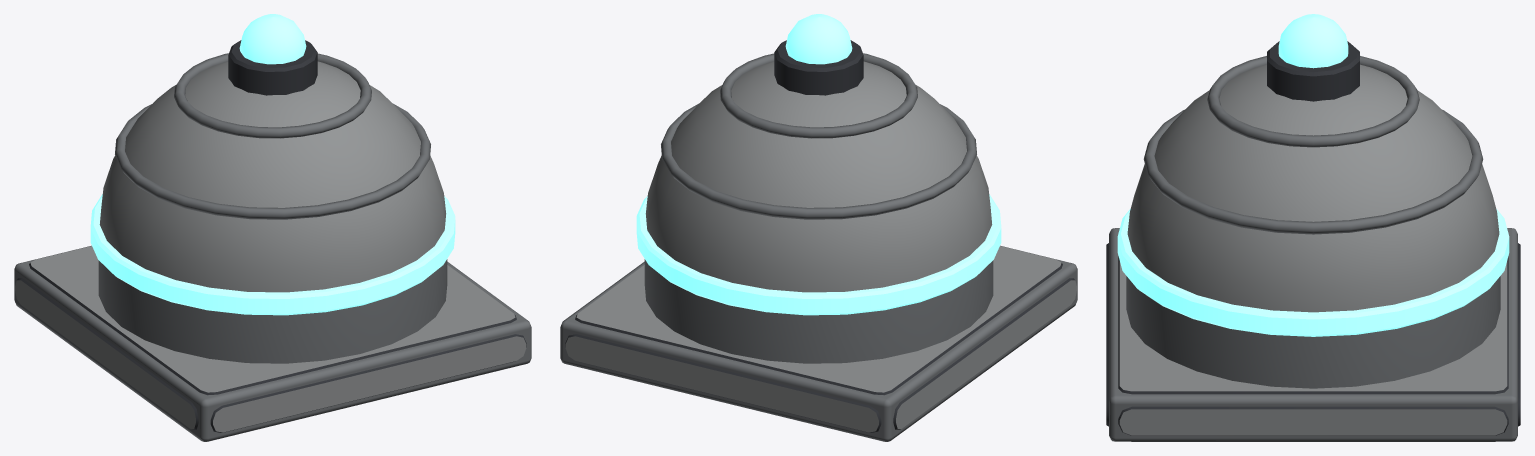
File: R4X_PersonalShield.glb
3 views of the same model, side by side, from view 1: azimuth 30°, elevation 25°; view 2: azimuth 150°, elevation 25°; view 3: azimuth 270°, elevation 25° (orthographic). The views are drawn at different scales.
Parts seen in each view (by area): view 1: R4X_PersonalShield_Body; view 2: R4X_PersonalShield_Body; view 3: R4X_PersonalShield_Body.
Boxes of the visible parts, left/top/right/bottom form: R4X_PersonalShield_Body: left=14, top=14, right=531, bottom=441; R4X_PersonalShield_Body: left=560, top=14, right=1077, bottom=441; R4X_PersonalShield_Body: left=1106, top=14, right=1520, bottom=441.
Size of the model in its own units: 0.52 by 0.475 by 0.52.
